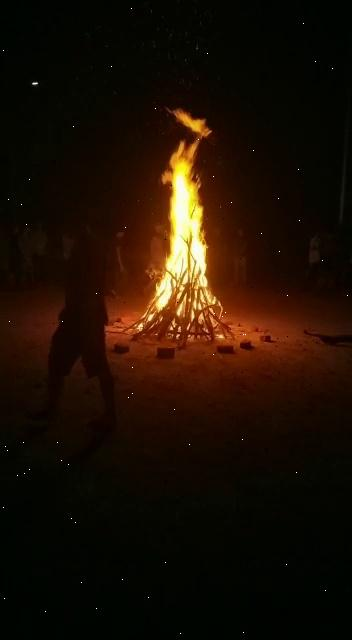fire: (144, 110, 219, 329)
